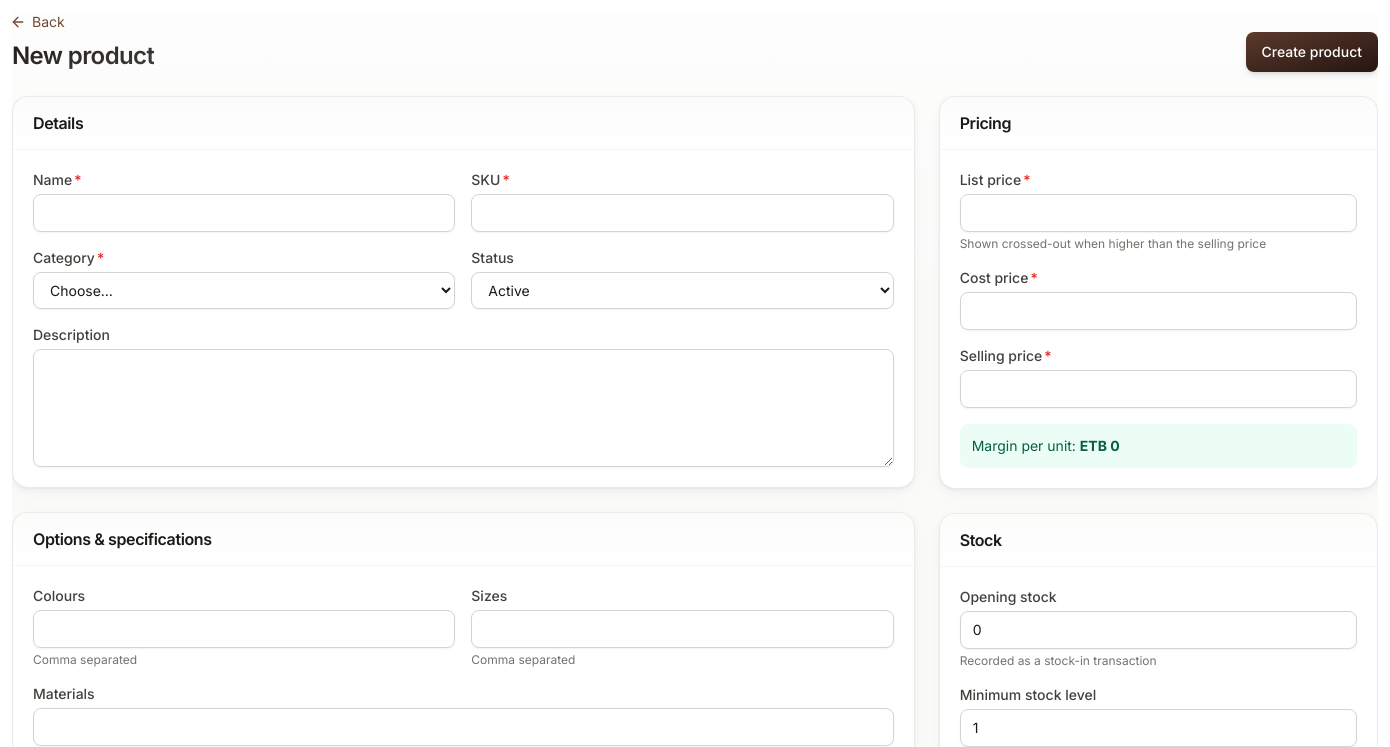
Test: Owner workflow: product creation › warns when the selling price is below cost
The image size is (1390, 747).
Type "60000" into the number field labelled "Cost price*" at (1158, 311), box [960,292,1357,330]
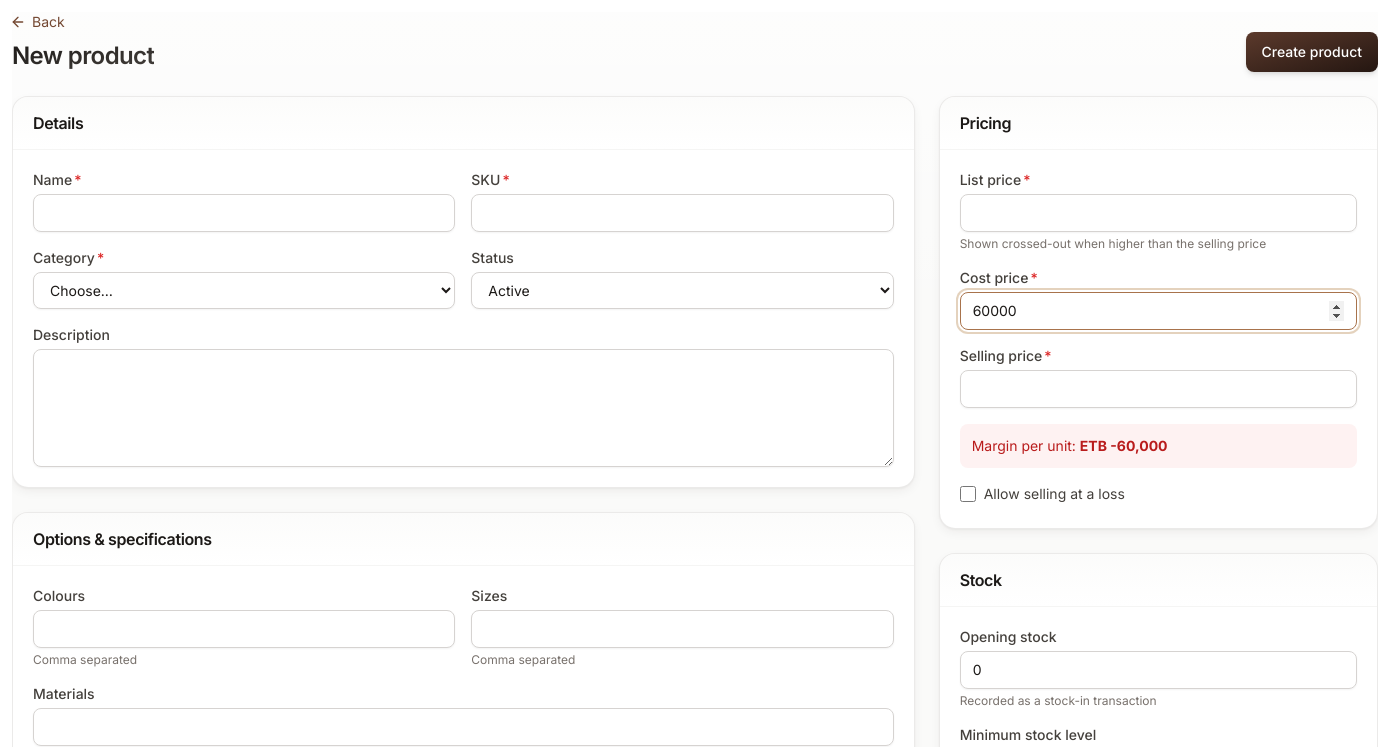
Type "50000" into the number field labelled "Selling price*" at (1158, 389), box [960,370,1357,408]
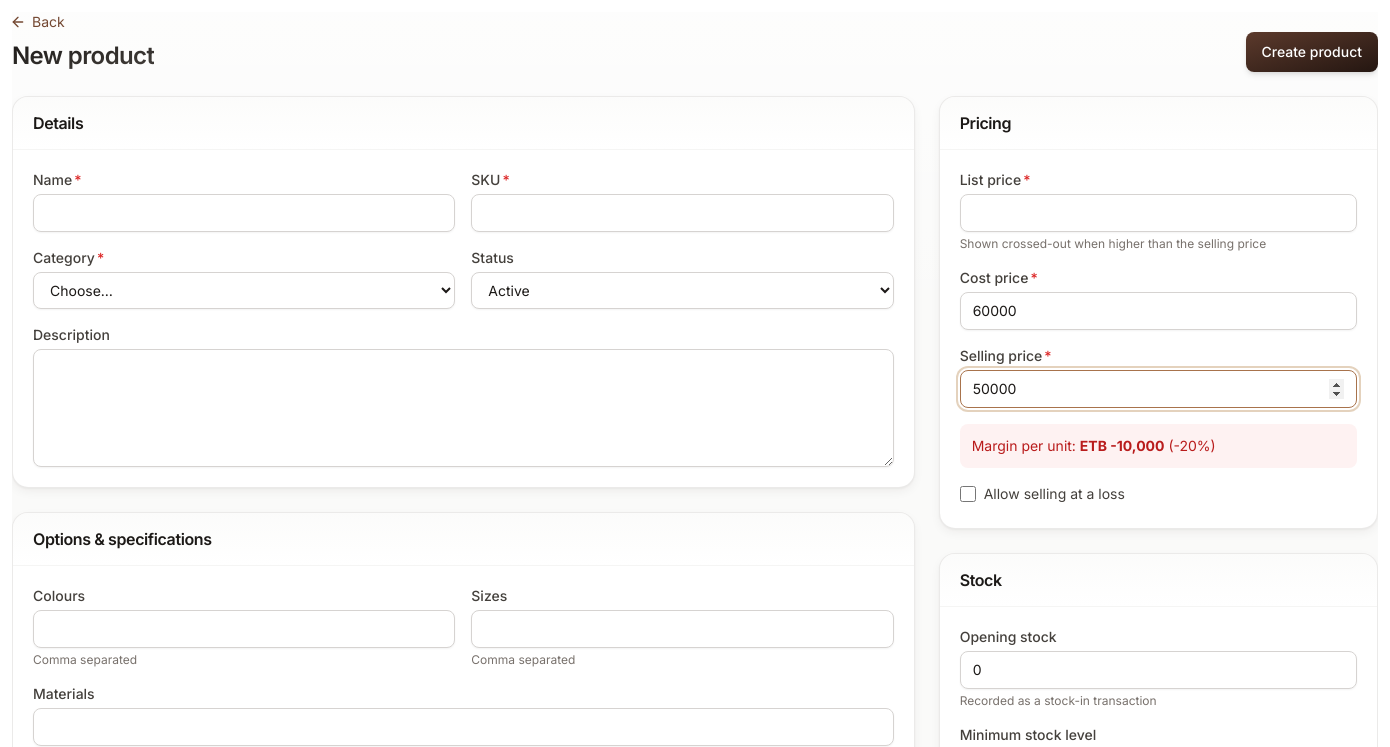
Now the text "ETB -10,000" is shown, box [1080,437,1164,454]
Click the button "Create product" at (1312, 52), box [1246,32,1378,72]
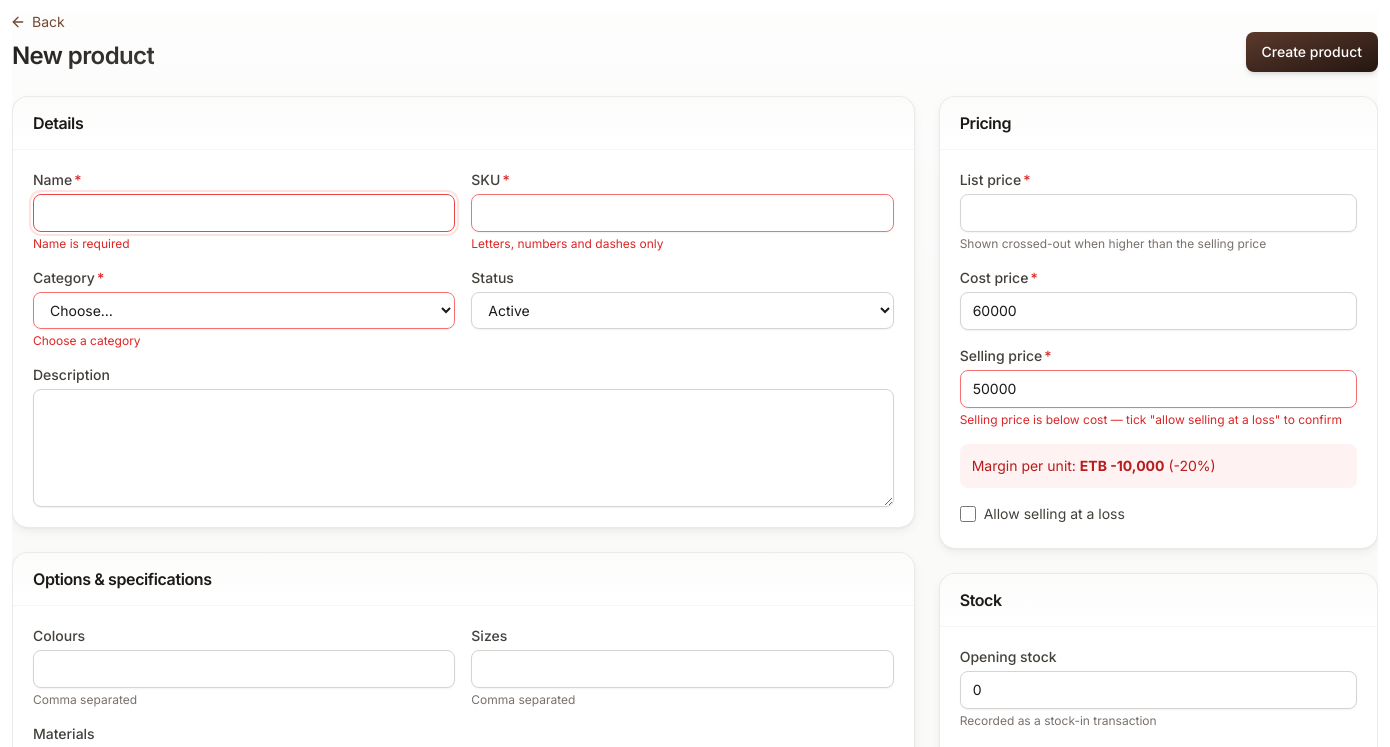
Now the text "Selling price is below cost — tick \"allow selling at a loss\" to confirm" is shown, box [960,412,1357,428]
